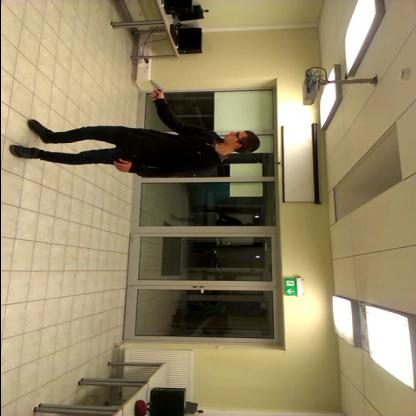Pistol: (140, 73, 170, 95)
